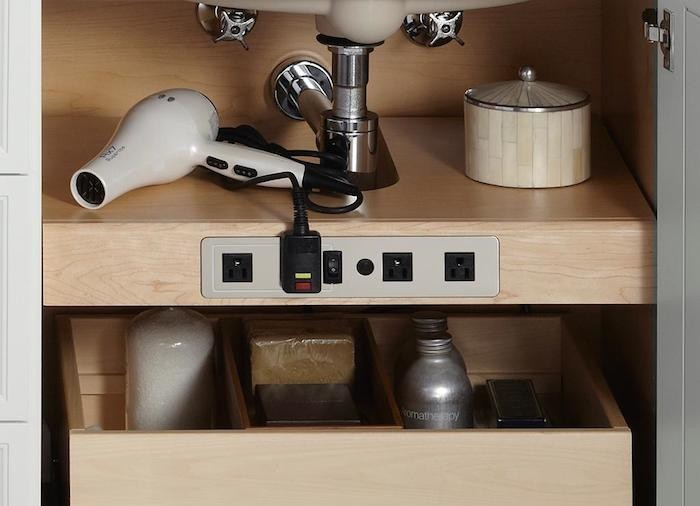outlet: (222, 254, 254, 283), (382, 252, 412, 282), (446, 252, 474, 280)
